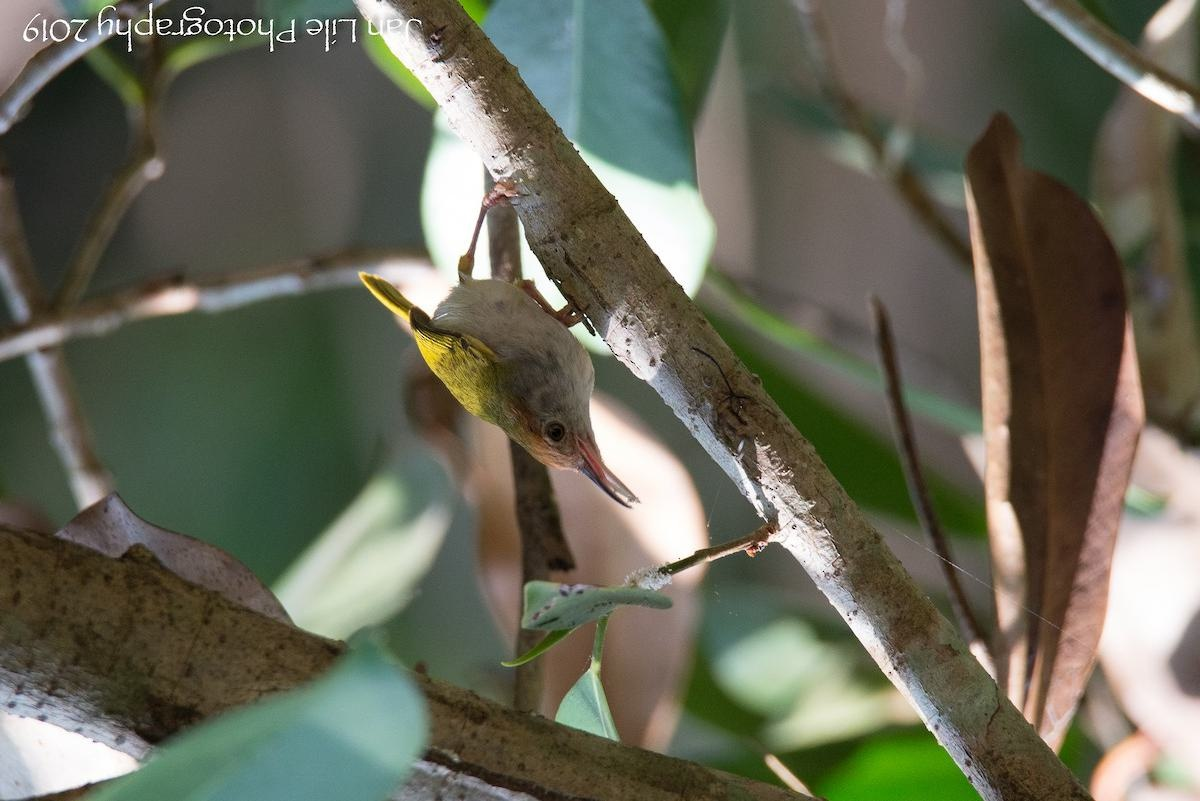tailorbird: (364, 181, 653, 520)
